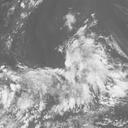cyclone: (30, 27, 109, 105)
